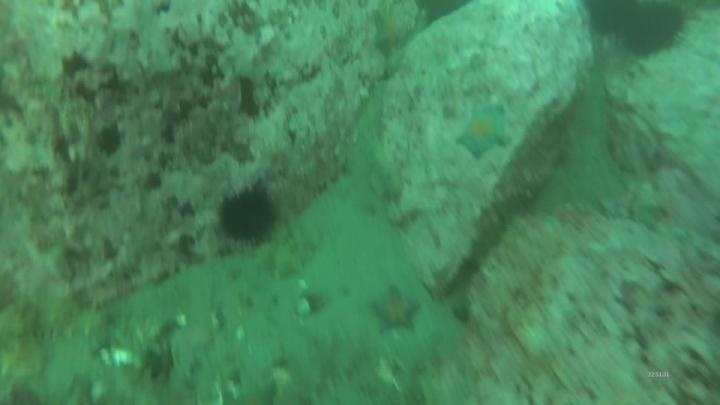echinus: (214, 182, 282, 248), (617, 2, 690, 60), (580, 1, 642, 40)
holothurian: (271, 328, 379, 404), (14, 293, 114, 343), (265, 217, 319, 282)
starfish: (453, 103, 512, 161), (367, 284, 423, 338), (369, 7, 413, 56)
